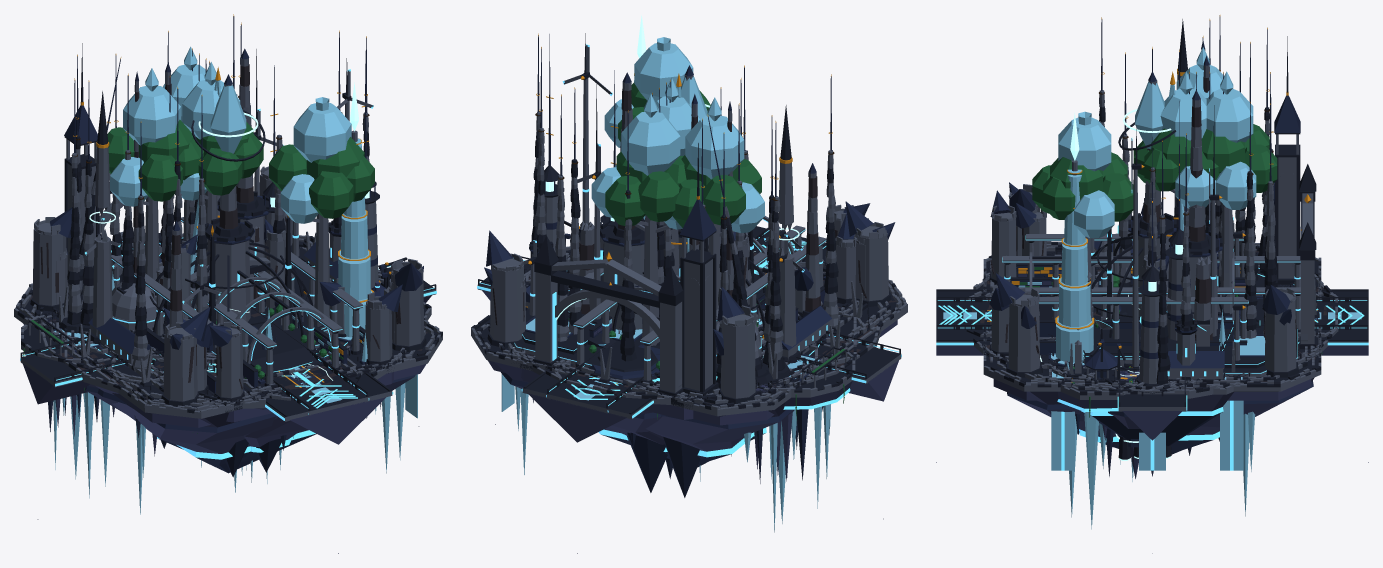
File: sky_citadel_stormhawk_structure.fbx
3 renders of one model, left to right at view 1: azimuth 30°, elevation 25°; view 2: azimuth 150°, elevation 25°; view 3: azimuth 270°, elevation 25°, orthographic. The views are drawn at different scales.
Parts seen in each view (by area): view 1: chunk_sky_tree_grove__stormhawk, chunk_spire_court__stormhawk, chunk_boss_clearing__stormhawk, chunk_aether_springs__stormhawk, chunk_archive__stormhawk, chunk_path_colonnade__stormhawk, chunk_spire_court_b__stormhawk, chunk_side_garden__stormhawk, chunk_garden_terrace__stormhawk, chunk_parade_ground__stormhawk, chunk_path_shattered__stormhawk, chunk_path_bend__stormhawk (+19 smaller); view 2: chunk_spire_court__stormhawk, chunk_garden_terrace__stormhawk, chunk_sky_tree_grove__stormhawk, chunk_archive__stormhawk, chunk_boss_clearing__stormhawk, chunk_parade_ground__stormhawk, chunk_path_colonnade__stormhawk, chunk_aether_springs__stormhawk, chunk_spire_court_b__stormhawk, chunk_armory__stormhawk, chunk_path_long_span__stormhawk, chunk_path_shattered__stormhawk (+13 smaller); view 3: chunk_spire_court__stormhawk, chunk_aether_springs__stormhawk, chunk_garden_terrace__stormhawk, chunk_sky_tree_grove__stormhawk, chunk_archive__stormhawk, chunk_boss_clearing__stormhawk, chunk_armory__stormhawk, chunk_side_garden__stormhawk, chunk_spire_court_b__stormhawk, chunk_crossroads__stormhawk, chunk_parade_ground__stormhawk, chunk_path_colonnade__stormhawk (+17 smaller).
Part boxes in pixels (<box>): chunk_sky_tree_grove__stormhawk: <box>62,68,401,475</box>; chunk_spire_court__stormhawk: <box>14,22,442,473</box>; chunk_boss_clearing__stormhawk: <box>36,31,406,444</box>; chunk_aether_springs__stormhawk: <box>20,82,425,553</box>; chunk_archive__stormhawk: <box>64,43,404,422</box>; chunk_path_colonnade__stormhawk: <box>37,78,362,479</box>; chunk_spire_court_b__stormhawk: <box>52,58,403,472</box>; chunk_side_garden__stormhawk: <box>150,62,356,393</box>; chunk_garden_terrace__stormhawk: <box>21,46,431,498</box>; chunk_parade_ground__stormhawk: <box>20,14,436,427</box>; chunk_path_shattered__stormhawk: <box>71,91,389,486</box>; chunk_path_bend__stormhawk: <box>205,74,435,492</box>; chunk_spire_court__stormhawk: <box>471,87,907,466</box>; chunk_garden_terrace__stormhawk: <box>559,93,855,508</box>; chunk_sky_tree_grove__stormhawk: <box>513,37,859,419</box>; chunk_archive__stormhawk: <box>512,143,852,435</box>; chunk_boss_clearing__stormhawk: <box>508,110,885,416</box>; chunk_parade_ground__stormhawk: <box>477,94,901,425</box>; chunk_path_colonnade__stormhawk: <box>554,121,824,523</box>; chunk_aether_springs__stormhawk: <box>488,15,901,553</box>; chunk_spire_court_b__stormhawk: <box>510,33,869,492</box>; chunk_armory__stormhawk: <box>525,132,867,497</box>; chunk_path_long_span__stormhawk: <box>515,74,865,478</box>; chunk_path_shattered__stormhawk: <box>554,105,817,386</box>; chunk_spire_court__stormhawk: <box>983,42,1368,454</box>; chunk_aether_springs__stormhawk: <box>936,113,1368,553</box>; chunk_garden_terrace__stormhawk: <box>983,71,1322,529</box>; chunk_sky_tree_grove__stormhawk: <box>990,47,1314,368</box>; chunk_archive__stormhawk: <box>936,36,1368,364</box>; chunk_boss_clearing__stormhawk: <box>936,72,1337,399</box>; chunk_armory__stormhawk: <box>936,27,1368,446</box>; chunk_side_garden__stormhawk: <box>956,71,1215,328</box>; chunk_spire_court_b__stormhawk: <box>984,125,1321,439</box>; chunk_crossroads__stormhawk: <box>939,81,1368,440</box>; chunk_parade_ground__stormhawk: <box>941,103,1368,400</box>; chunk_path_colonnade__stormhawk: <box>953,15,1367,351</box>.
Bounding box in the file's own units: 256 × 256 × 256.
